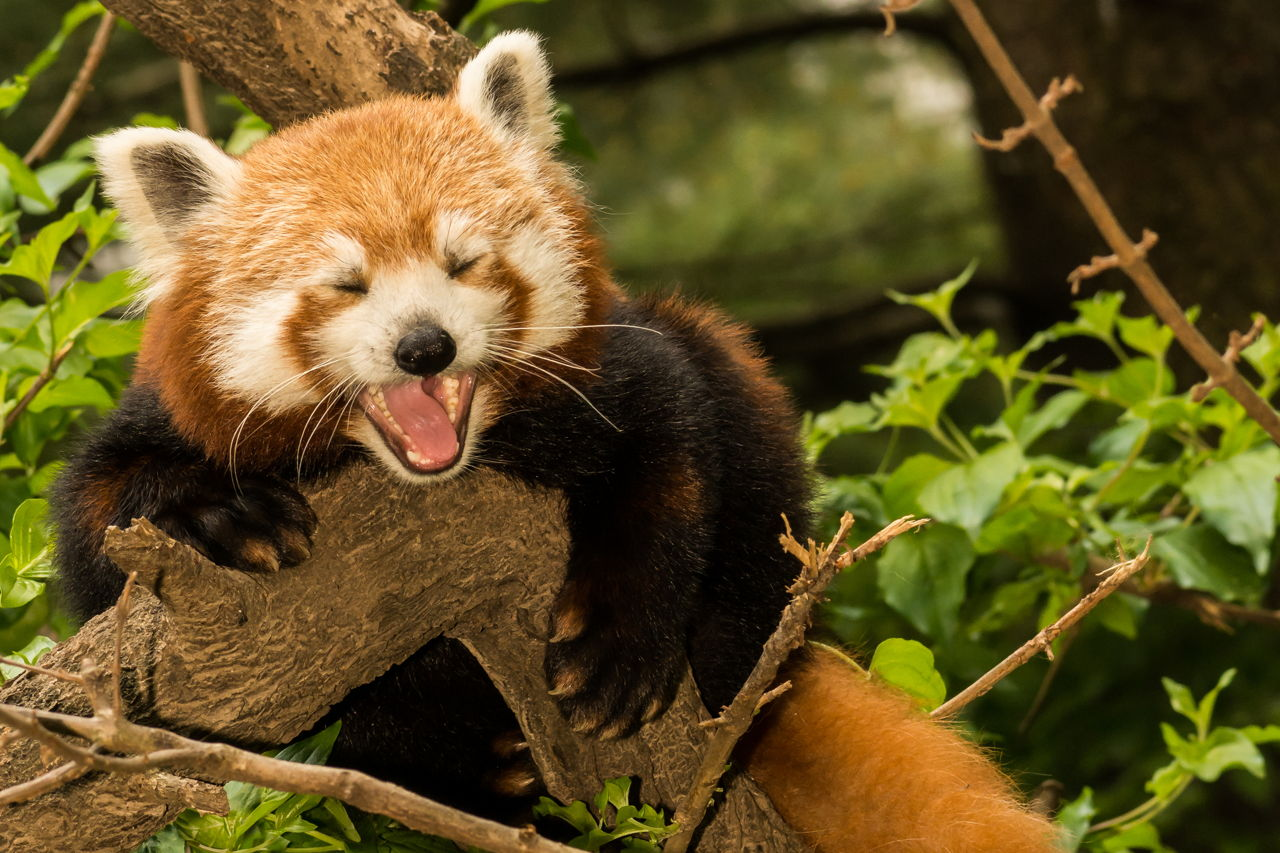red_panda: (58, 37, 1002, 850)
